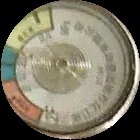green: (2, 48, 20, 79)
red: (2, 81, 46, 125)
yellow: (8, 7, 54, 50)
